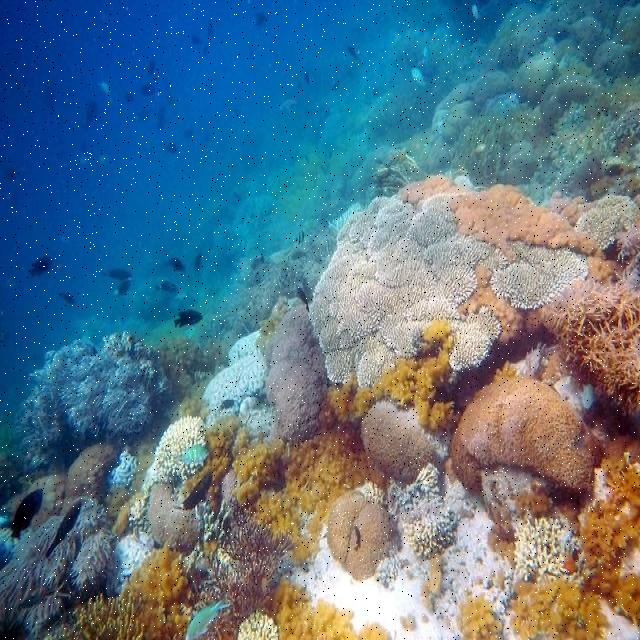fish: (44, 497, 81, 559), (185, 597, 230, 639), (10, 488, 42, 540), (172, 472, 213, 510), (23, 256, 54, 278), (179, 445, 209, 463), (174, 310, 204, 327), (102, 269, 132, 281), (296, 287, 309, 312), (411, 68, 427, 85)
reefs: (179, 319, 516, 577), (272, 433, 639, 640), (309, 174, 639, 393), (398, 1, 639, 204), (0, 416, 208, 639), (43, 470, 298, 639), (359, 345, 609, 504), (7, 331, 178, 474), (541, 228, 639, 441), (256, 295, 329, 443), (203, 331, 275, 441), (327, 492, 400, 583)
